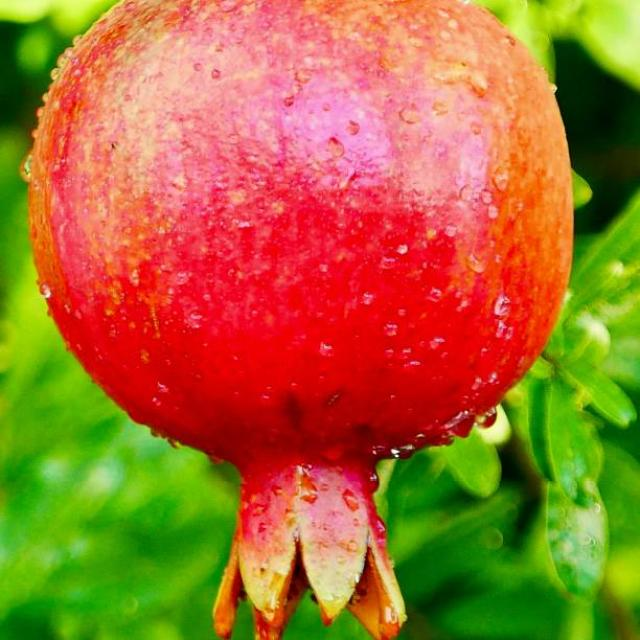Ripe: (21, 0, 587, 640)
